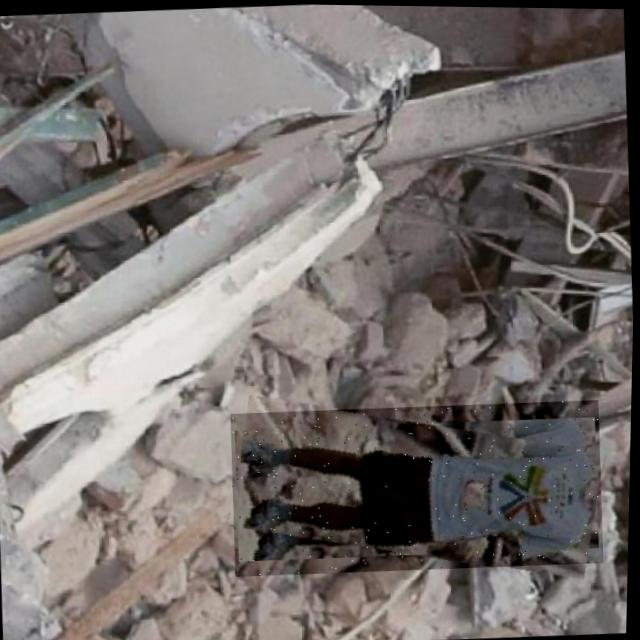Person in Rubble: (229, 392, 608, 580)
